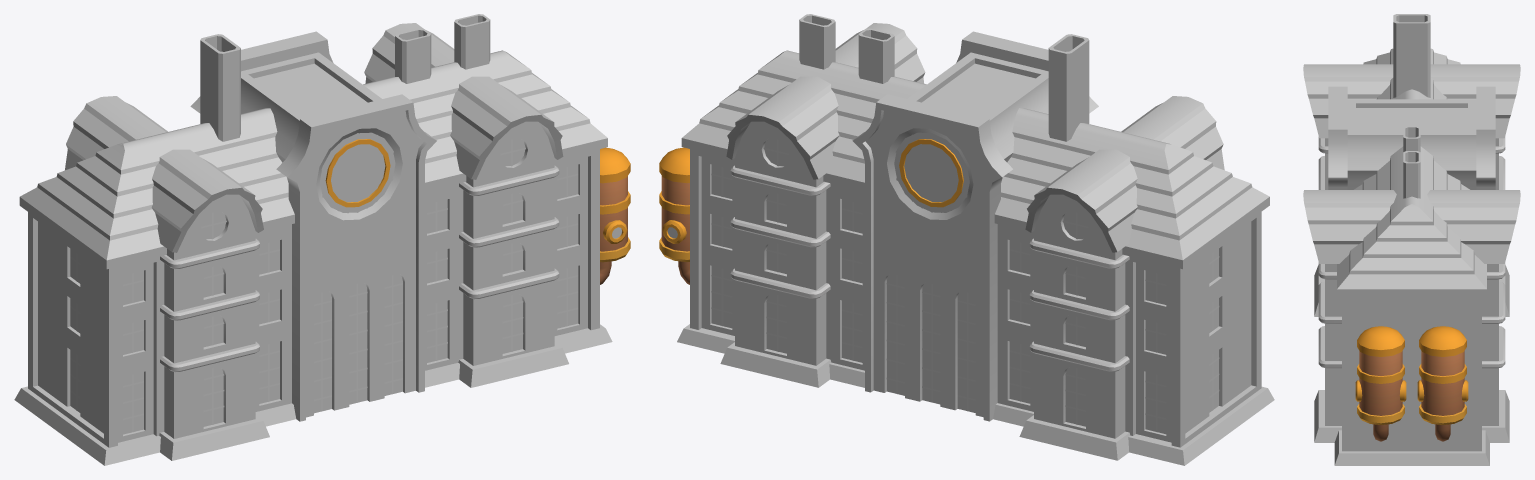
File: building_005.fbx
The picture shows the model from 3 angles, left to right: view 1: azimuth 30°, elevation 25°; view 2: azimuth 150°, elevation 25°; view 3: azimuth 270°, elevation 25°; orthographic projection. The views are drawn at different scales.
Parts seen in each view (by area): view 1: building_005; view 2: building_005; view 3: building_005.
Boxes of the visible parts, x1=… form: building_005: x1=14, y1=14, x2=630, y2=465; building_005: x1=659, y1=14, x2=1274, y2=465; building_005: x1=1303, y1=14, x2=1520, y2=465.
Bounding box in the file's own units: 4520 × 1799 × 2750.
